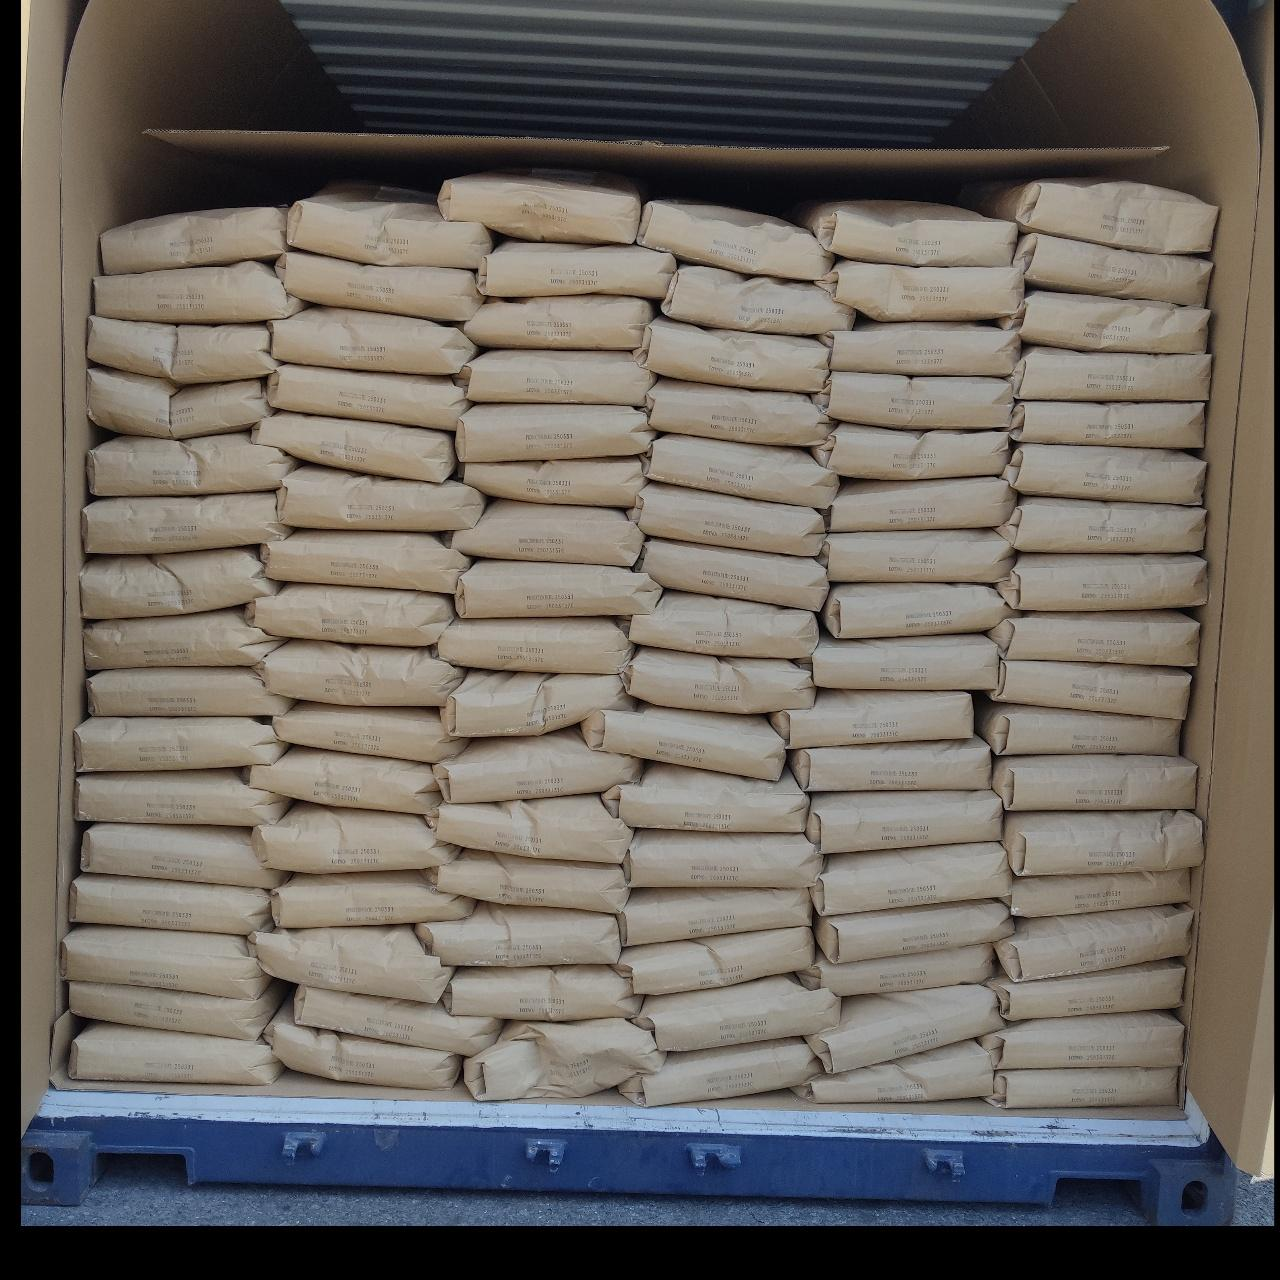sack: (806, 985, 1003, 1073), (979, 179, 1217, 252), (287, 186, 491, 268), (464, 1017, 663, 1099), (433, 726, 642, 802), (265, 1006, 459, 1088), (634, 974, 839, 1051), (638, 200, 832, 279), (252, 925, 452, 1001), (62, 925, 266, 999), (437, 169, 641, 243), (812, 842, 1012, 915), (627, 482, 825, 556), (995, 906, 1193, 980), (583, 706, 783, 778), (277, 251, 482, 321), (295, 985, 499, 1055), (1014, 233, 1211, 306), (645, 435, 838, 509), (601, 763, 808, 832), (252, 803, 457, 872), (803, 200, 1017, 266), (251, 413, 454, 482), (268, 307, 475, 374), (642, 318, 829, 392), (636, 538, 828, 610), (661, 265, 855, 335), (267, 365, 470, 431), (275, 467, 485, 531), (430, 795, 632, 862), (81, 549, 275, 618), (617, 926, 813, 994), (260, 530, 471, 593), (618, 1040, 821, 1105), (87, 433, 297, 496), (81, 823, 281, 888), (260, 640, 464, 704), (87, 315, 275, 384), (441, 670, 635, 737), (247, 584, 455, 646), (87, 367, 270, 437), (69, 1023, 280, 1084), (806, 789, 1002, 855), (451, 499, 644, 566), (94, 261, 302, 322), (250, 747, 440, 813), (416, 903, 620, 965), (622, 647, 813, 713), (1003, 811, 1201, 874), (645, 377, 829, 445), (82, 493, 291, 553), (427, 850, 627, 912), (628, 592, 817, 658), (102, 207, 286, 274), (983, 960, 1185, 1020), (70, 982, 284, 1039), (817, 901, 1013, 962), (76, 770, 287, 826), (802, 1040, 993, 1102), (84, 610, 282, 669), (72, 874, 270, 934), (825, 260, 1023, 320), (988, 660, 1190, 719), (989, 610, 1199, 666), (1019, 291, 1208, 353), (624, 829, 821, 888), (772, 689, 973, 748), (1003, 444, 1204, 503), (457, 560, 661, 618), (979, 1012, 1183, 1069), (272, 871, 474, 928), (273, 701, 462, 762), (76, 717, 287, 771), (998, 556, 1207, 610), (479, 240, 676, 298), (1000, 497, 1205, 552), (992, 755, 1197, 810), (444, 964, 640, 1021), (817, 372, 1012, 429), (456, 404, 653, 461), (790, 737, 990, 792), (813, 423, 1008, 479), (1012, 346, 1211, 400), (459, 350, 654, 406), (437, 617, 631, 672), (620, 888, 811, 944), (978, 703, 1180, 755), (797, 944, 994, 996), (829, 322, 1020, 376), (811, 635, 998, 690), (828, 476, 1014, 531), (821, 530, 1014, 583), (464, 297, 653, 350), (822, 584, 1009, 638), (87, 667, 293, 715), (461, 457, 647, 508), (1012, 401, 1203, 448), (1006, 869, 1190, 917), (986, 1067, 1178, 1107)
